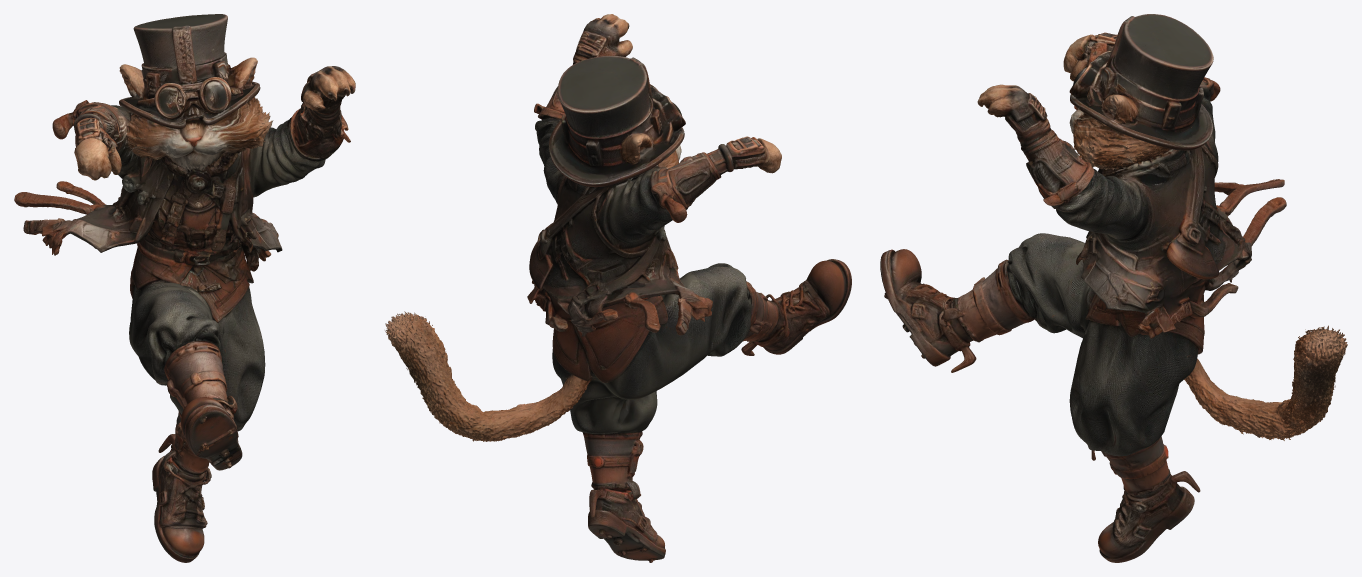
File: 蒸汽朋克猫咪-曹彤杺 孟令怡.glb
The picture shows the model from 3 angles, left to right: view 1: azimuth 30°, elevation 25°; view 2: azimuth 150°, elevation 25°; view 3: azimuth 270°, elevation 25°; orthographic projection. The views are drawn at different scales.
Bounding box in the file's own units: 1.1 × 1.9 × 1.48.
1 material, 1 textured.
